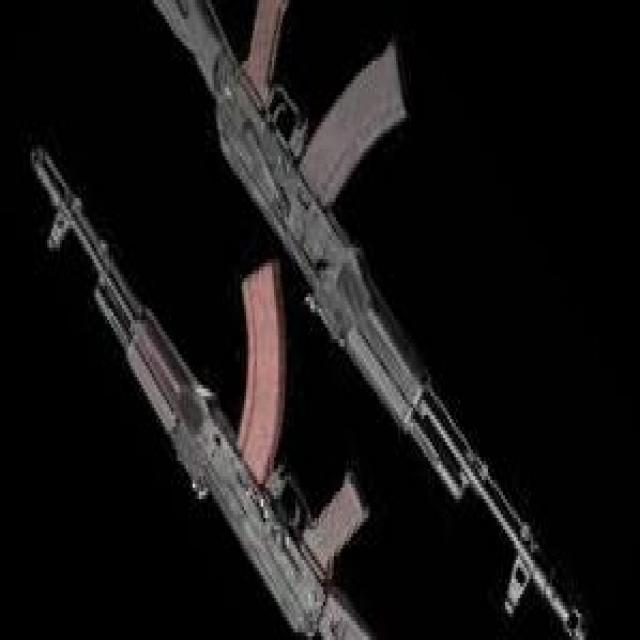weapon: (153, 1, 591, 640), (32, 147, 374, 640)
